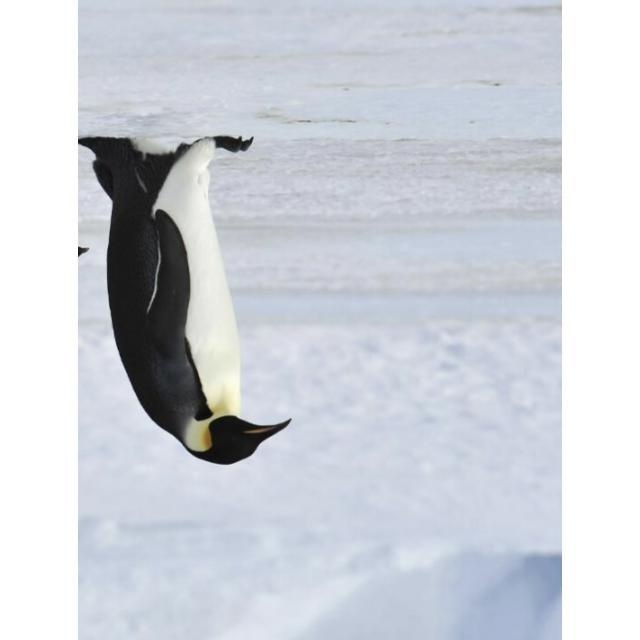penguin: (80, 132, 294, 468)
